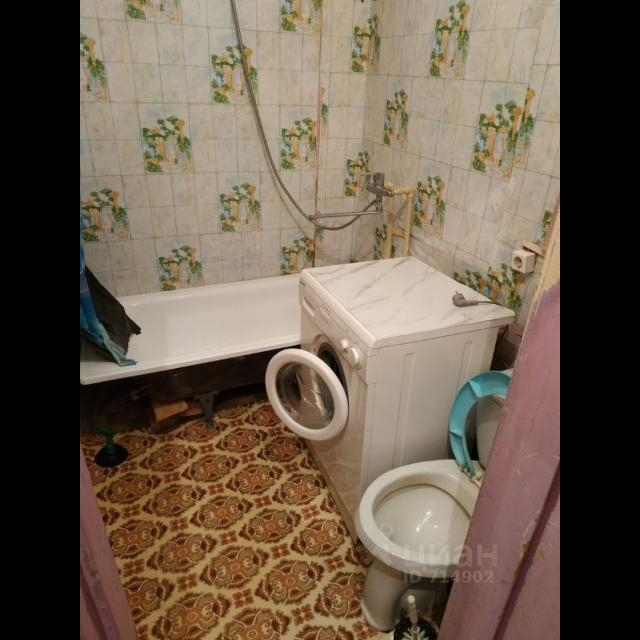Washing-Machine: (265, 253, 497, 517)
